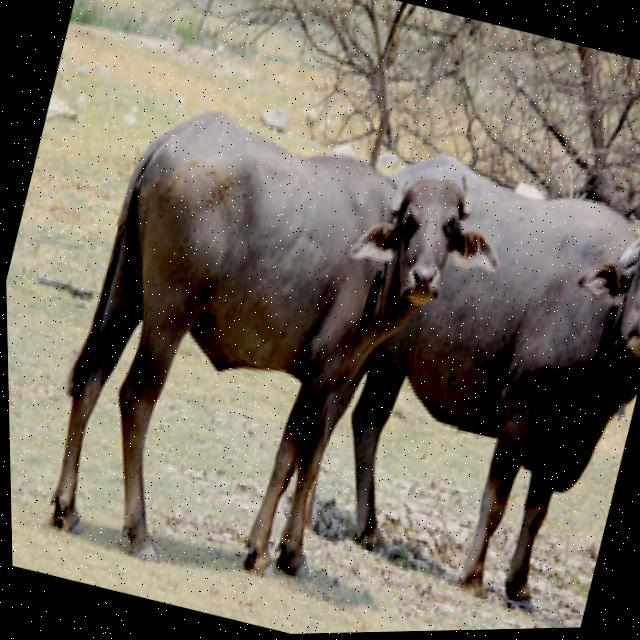Buffalo: (17, 77, 530, 638), (409, 175, 640, 623)
